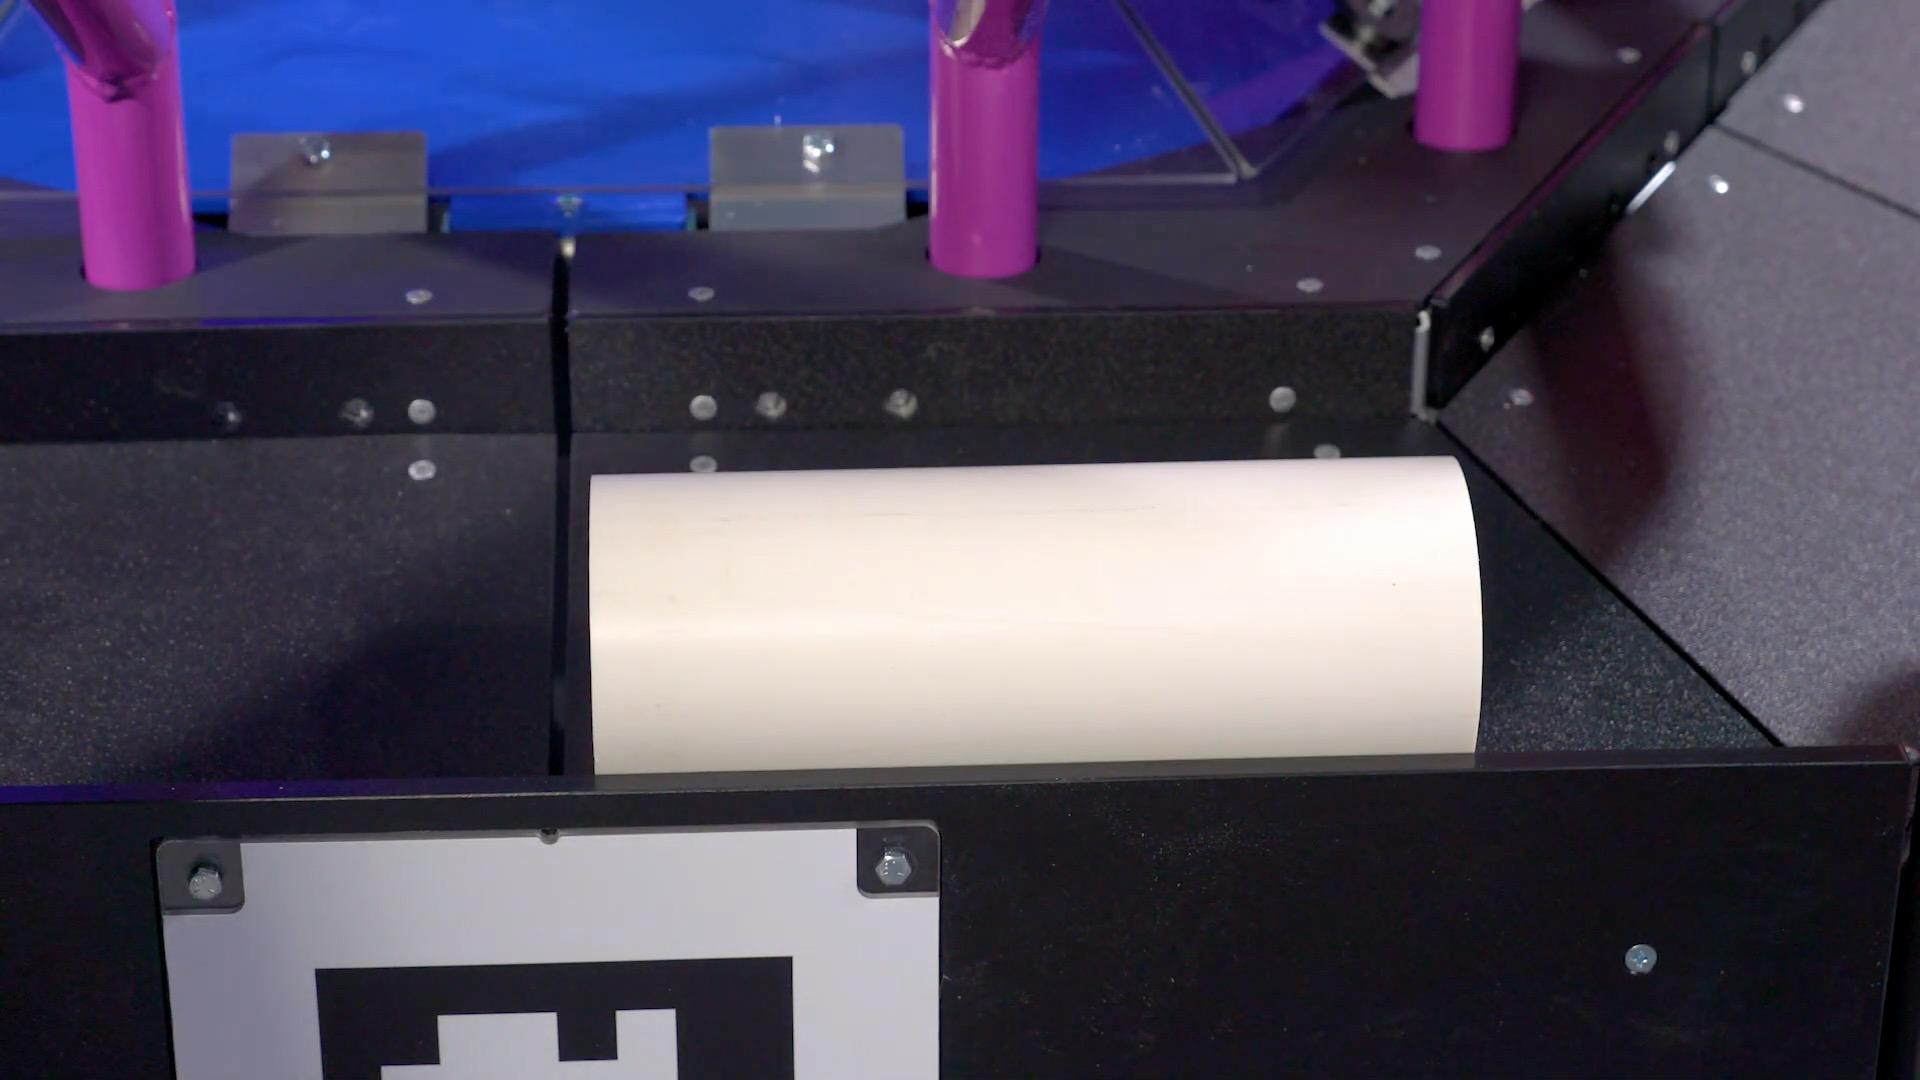CORAL: (584, 452, 1485, 775)
